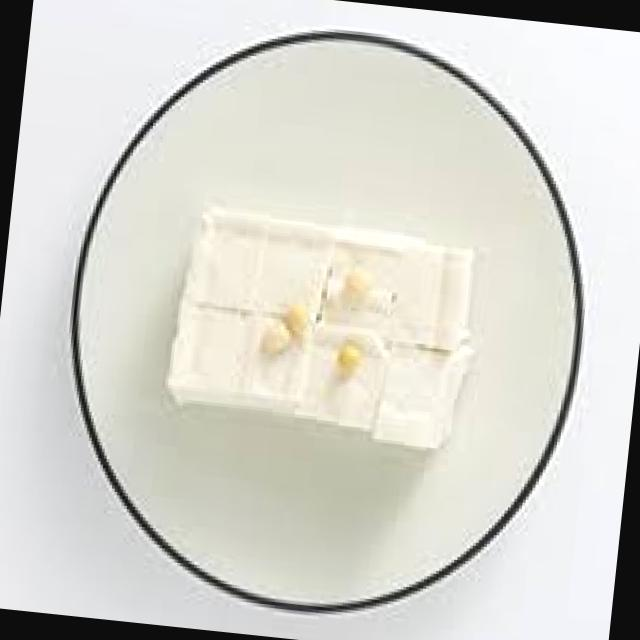tofu: (148, 187, 494, 458)
